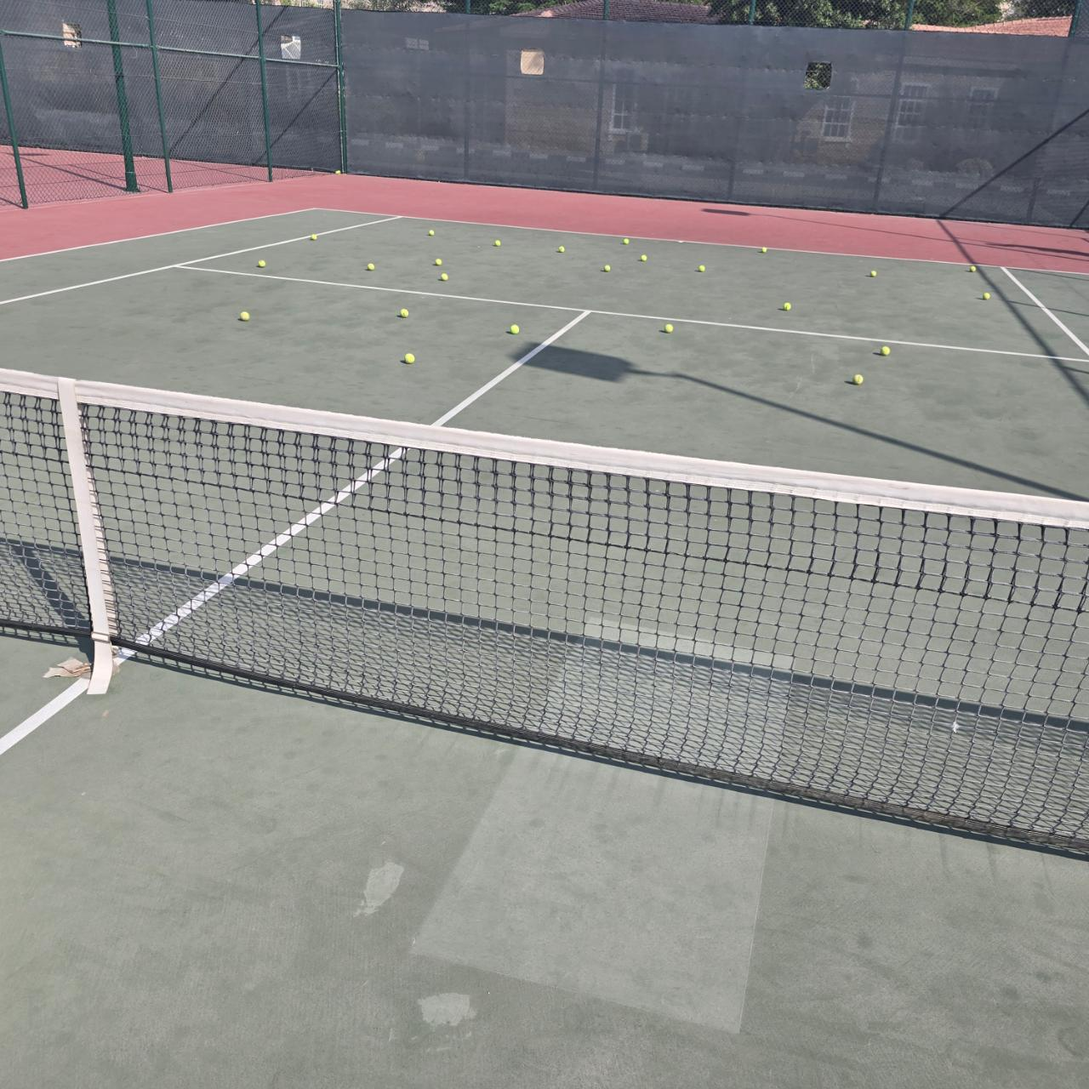tennis-ball: (660, 320, 674, 334), (402, 351, 415, 364), (237, 309, 250, 322), (851, 372, 864, 385), (507, 322, 519, 334), (396, 306, 408, 317)
